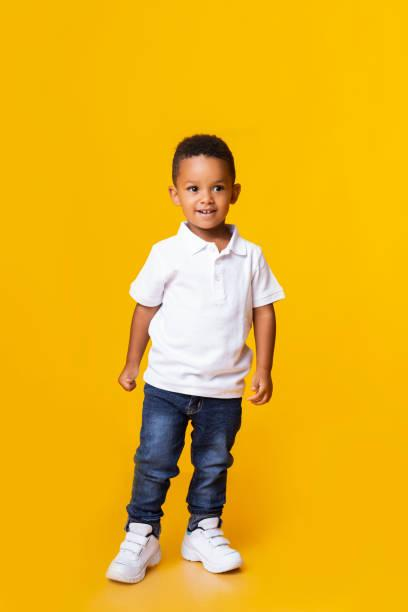Human: (111, 114, 297, 593)
